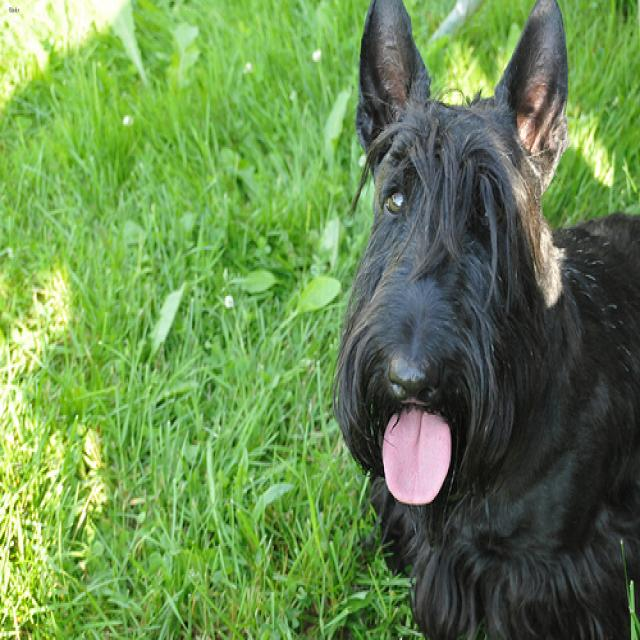dog-scottish_terrier: (323, 2, 637, 636)
